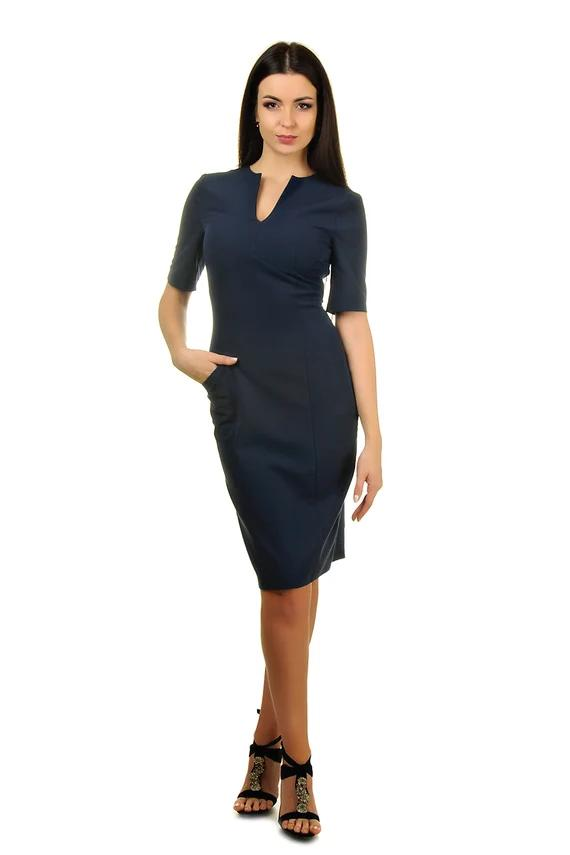dress: (165, 160, 379, 596)
